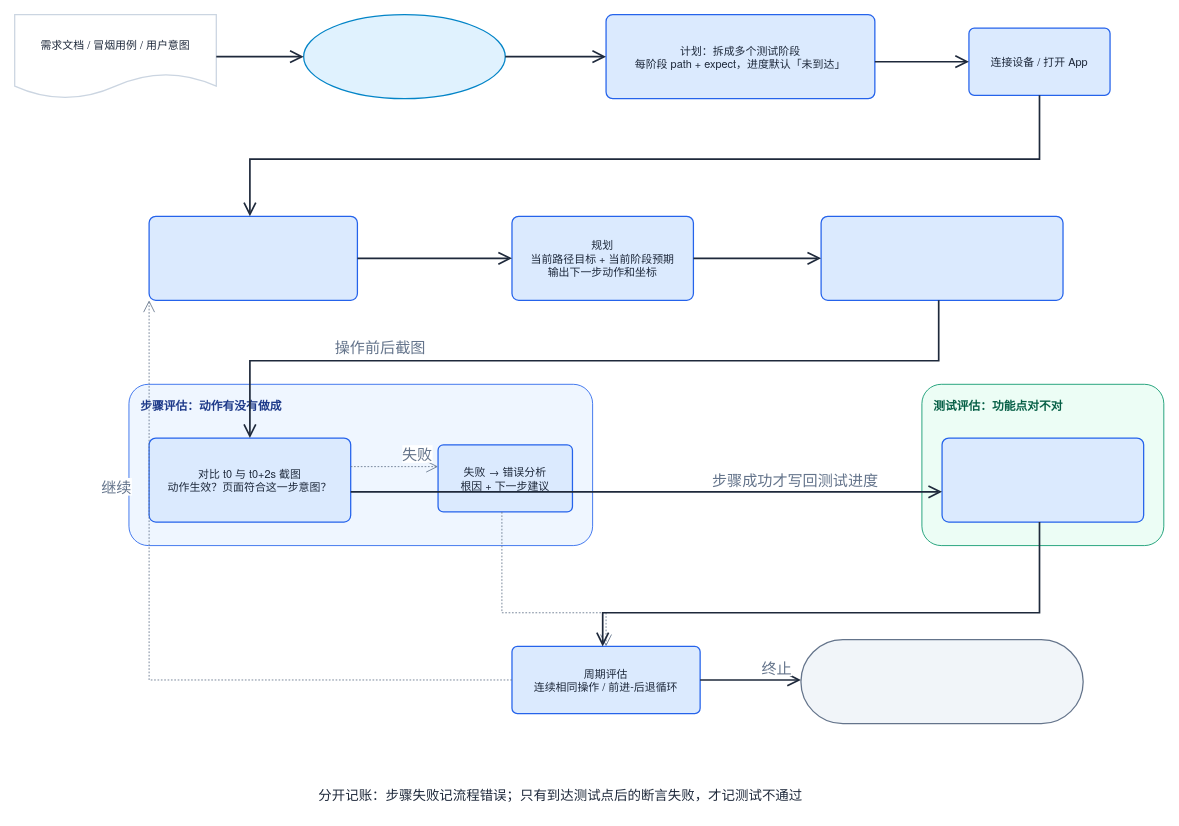
The diagram is 1179 pixels wide and 826 high, and some of its shapes have lost their labels. The shapes that lost their labels are listed below. From the top down, each one's centre as x and y in pixels, then its label:
At point (404, 56): "人工确认用例 开始路径 · 期望 · 设备 · 账号".
At point (253, 258): "分析 截图 + DOM + 页面画像 预测单步意图，命中特例走固定脚本".
At point (941, 258): "行动 云真机 tap / input / scroll / back".
At point (1042, 479): "是否到达当前阶段测试点 未到达 / 测试通过 / 测试不通过".
At point (941, 681): "全部阶段有结论，或死循环 / 步数上限 → 出报告".
